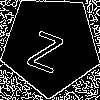Z: (25, 20, 68, 74)
